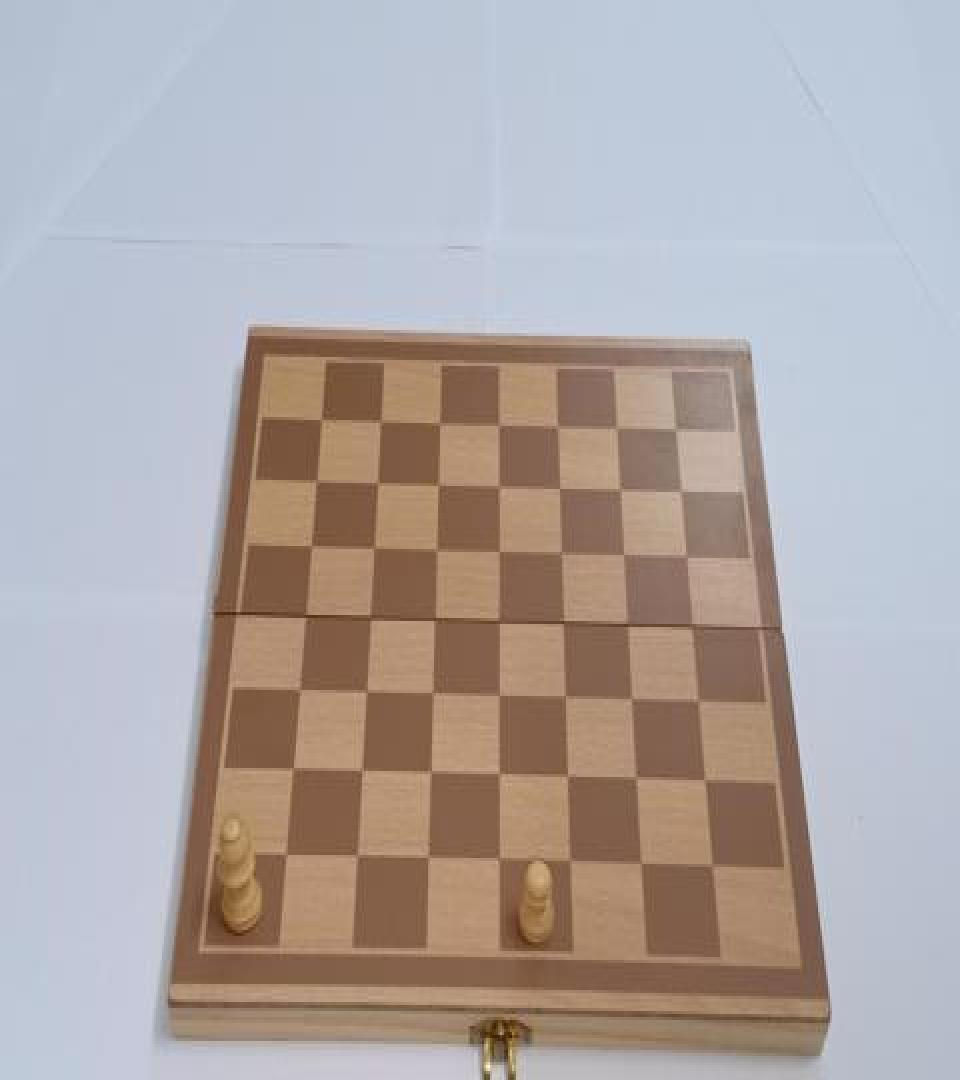xcorner: (308, 472, 326, 500), (372, 412, 390, 440), (368, 472, 386, 500), (430, 412, 448, 440), (420, 760, 438, 788), (611, 478, 629, 506), (313, 411, 331, 438), (302, 537, 320, 564), (296, 606, 314, 633), (290, 678, 308, 705), (284, 756, 302, 783), (277, 840, 295, 867), (364, 538, 382, 565), (356, 681, 374, 708), (352, 759, 370, 786), (347, 843, 365, 870), (429, 474, 447, 501), (427, 540, 445, 567), (425, 609, 443, 636), (423, 683, 441, 710), (418, 844, 436, 871), (489, 414, 507, 441), (489, 540, 507, 567), (489, 610, 507, 637), (489, 684, 507, 711), (489, 762, 507, 789), (489, 846, 507, 873), (548, 415, 566, 442), (550, 477, 568, 504), (554, 612, 572, 639), (558, 765, 576, 792), (560, 849, 578, 876), (607, 417, 625, 444), (615, 543, 633, 570), (623, 687, 641, 714), (627, 766, 645, 793), (632, 851, 650, 878), (667, 417, 685, 444), (672, 480, 690, 507), (678, 545, 696, 572), (684, 615, 702, 642), (690, 689, 708, 716), (697, 768, 715, 795), (360, 608, 378, 634), (489, 476, 507, 502), (552, 542, 570, 568), (556, 686, 574, 712), (619, 614, 637, 640), (704, 854, 722, 880)
